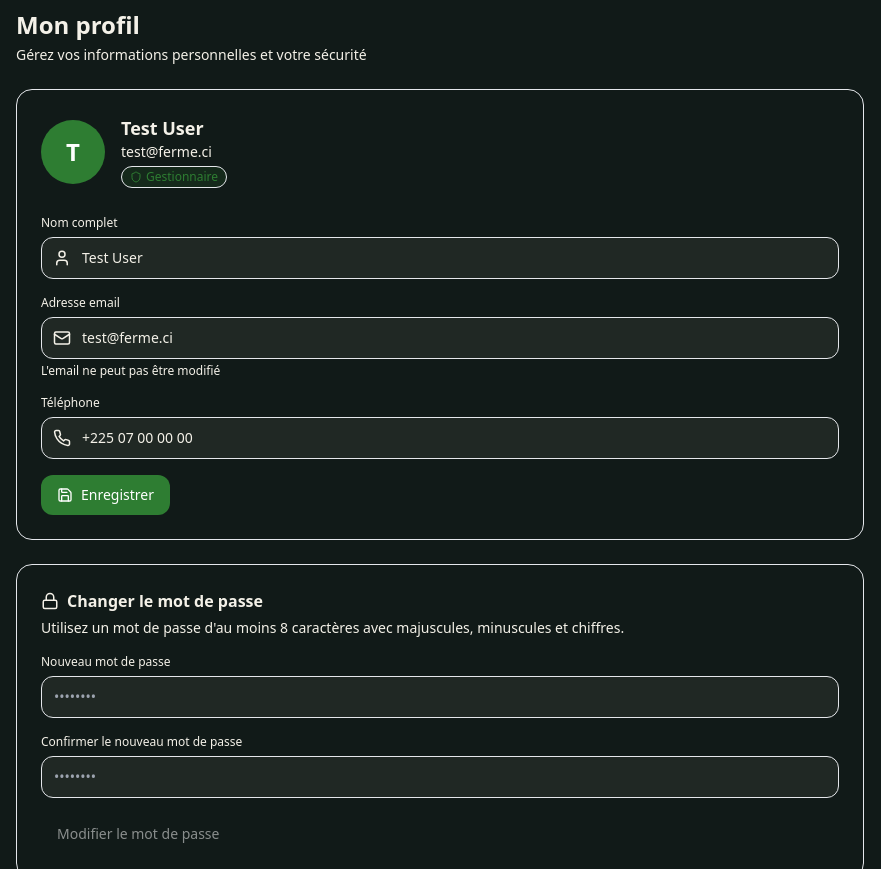
ProfilePage — changement de mot de passe › TEST 8 — mots de passe différents affiche une erreur via toast
Type "Password123" into the 1st password field with placeholder "••••••••" at (440, 697), box [41,676,839,718]
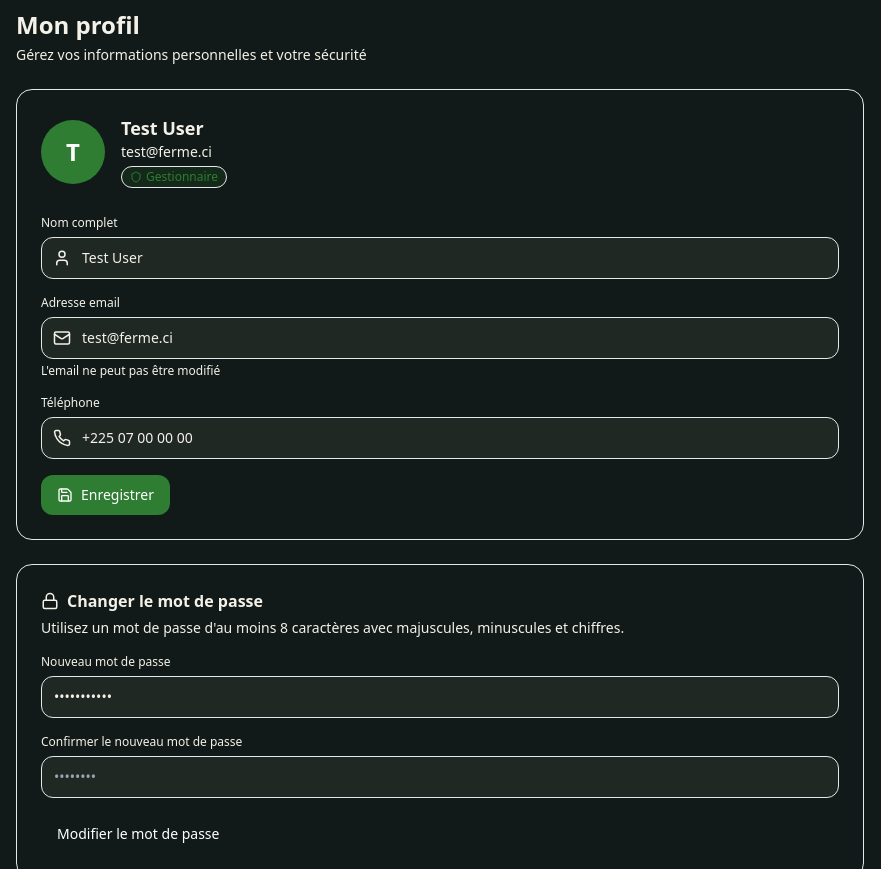
Type "Different123" into the password field with placeholder "••••••••" at (440, 777), box [41,756,839,798]
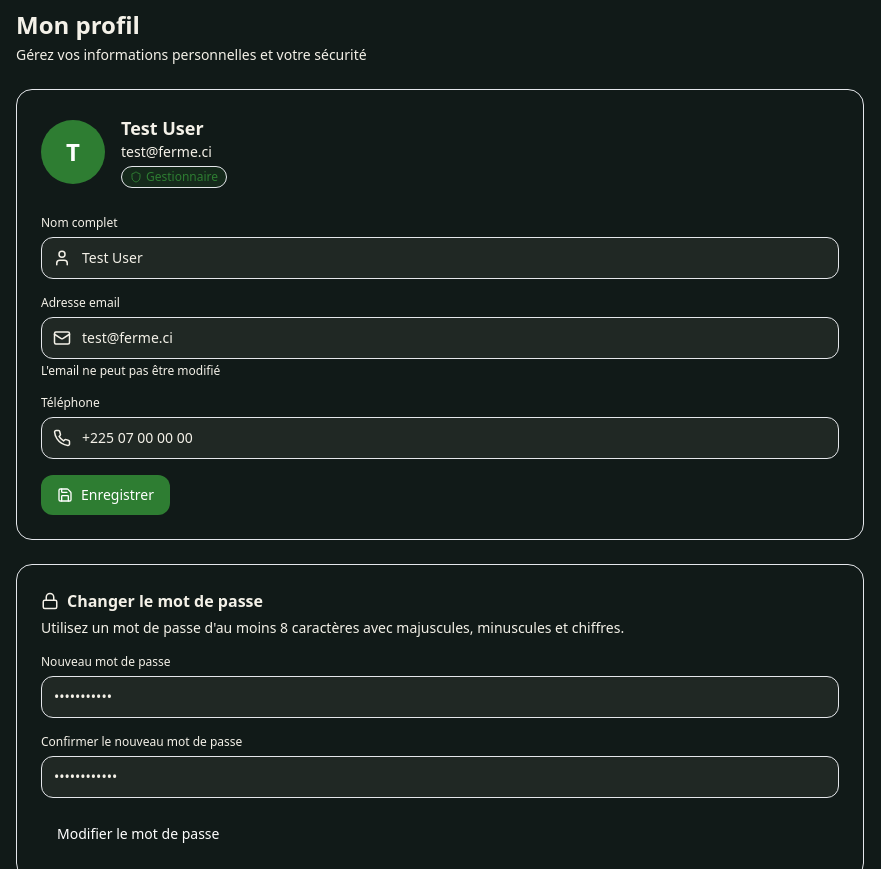
Click the button "Modifier le mot de passe" at (138, 834), box [41,814,236,854]
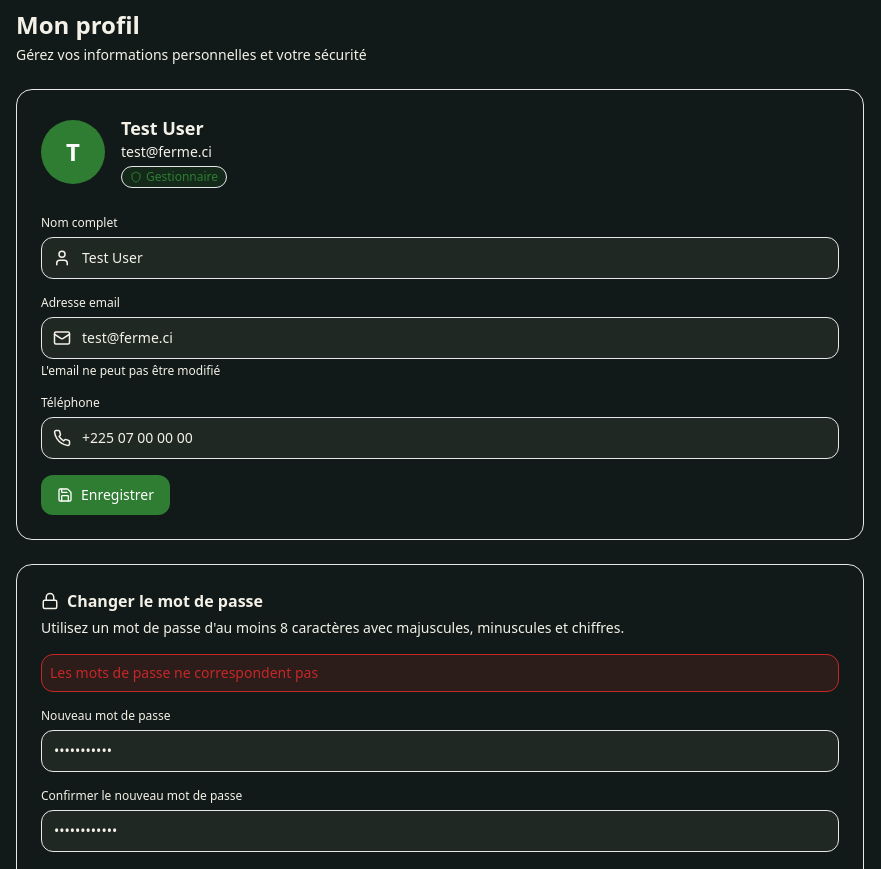
Result: the text "Les mots de passe ne correspondent pas" is shown at [41,654,839,692]
